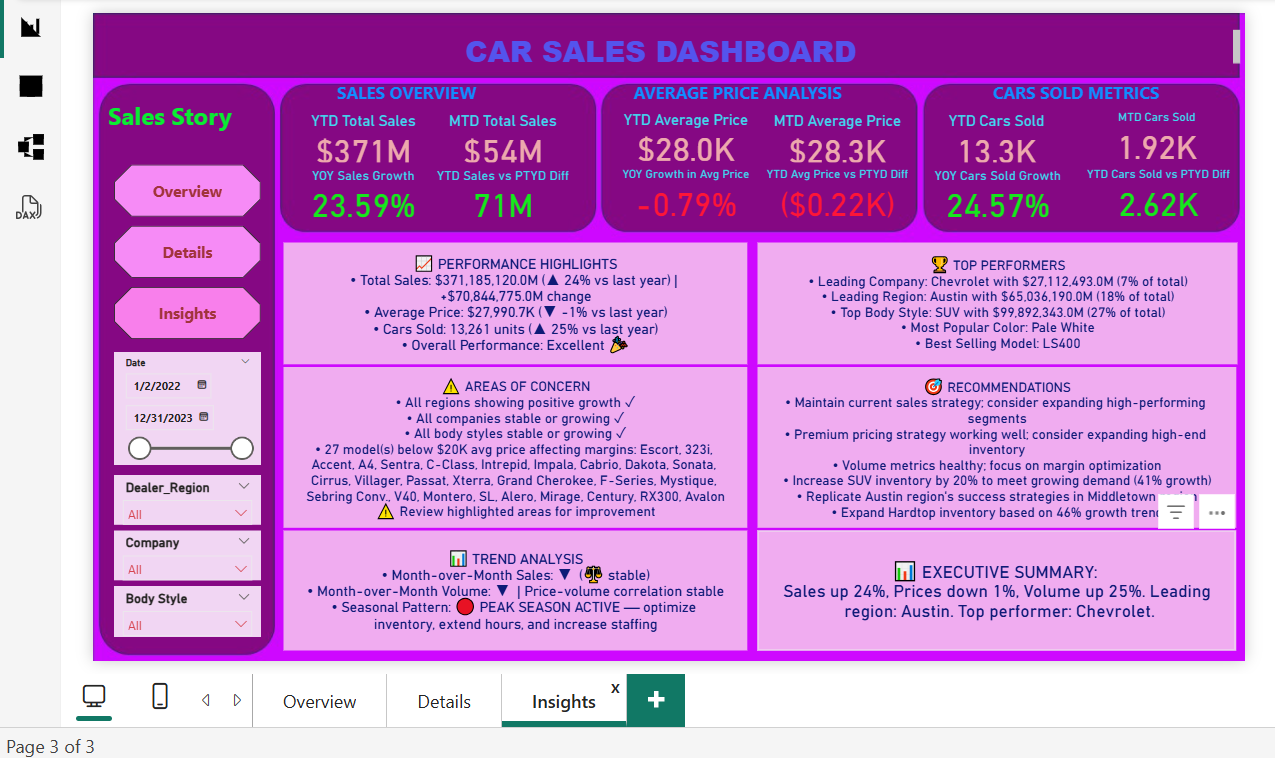

Layout of this report page (visuals, bound fields, positions):
{"tool":"powerbi","page":{"name":"Insights ","canvas":[1280,720],"ordinal":2},"visuals":[{"type":"textbox","box":[0,12.8,1279.7,51.1],"z":0},{"type":"textbox","box":[250.8,70.3,193.3,39.9],"z":1000},{"type":"card","title":"YTD Total Sales","fields":{"Values":["car_data.YTD Sales"]},"box":[210.9,110.2,177.3,60.7],"z":2000},{"type":"textbox","box":[968.2,70.3,247.6,39.9],"z":3000},{"type":"textbox","box":[570.4,70.3,292.4,39.9],"z":4000},{"type":"card","title":"YOY Sales Growth ","fields":{"Values":["car_data.YOY Sales Growth"]},"box":[210.9,171,177.3,60.7],"z":5000},{"type":"card","title":"YTD Sales vs PTYD Diff","fields":{"Values":["car_data.YTD Sales vs PTYD Difference"]},"box":[367.5,171,177.3,60.7],"z":6000},{"type":"card","title":"MTD Total Sales","fields":{"Values":["car_data.MTD Sales"]},"box":[367.5,110.2,177.3,60.7],"z":7000},{"type":"card","title":"YTD Average Price","fields":{"Values":["car_data.YTD Average Price"]},"box":[570.4,108.6,177.3,60.7],"z":8000},{"type":"card","title":"MTD Average Price","fields":{"Values":["car_data.MTD Average Price"]},"box":[738.1,110.2,177.3,60.7],"z":9000},{"type":"card","title":"YOY Growth in Avg Price","fields":{"Values":["car_data.YOY Average Price Growth"]},"box":[570.4,171,177.3,60.7],"z":10000},{"type":"card","title":"YTD Avg Price vs PTYD Diff","fields":{"Values":["car_data.YTD Avg Price vs PTYD Difference"]},"box":[738.1,171,177.3,60.7],"z":11000},{"type":"card","title":"YTD Cars Sold","fields":{"Values":["car_data.YTD Cars Sold"]},"box":[915.5,110.2,177.3,60.7],"z":12000},{"type":"card","title":"YOY Cars Sold Growth","fields":{"Values":["car_data.YOY Cars Sold Growth"]},"box":[917.1,171,177.3,60.7],"z":13000},{"type":"card","title":"MTD Cars Sold","fields":{"Values":["car_data.MTD Cars Sold"]},"box":[1092.8,108.6,177.3,60.7],"z":14000},{"type":"card","title":"YTD Cars Sold vs PTYD Diff","fields":{"Values":["car_data.YTD Cars Sold vs PTYD Difference"]},"box":[1094.4,171,177.3,60.7],"z":15000},{"type":"pageNavigator","box":[23.3,168.3,163.3,195],"z":16000},{"type":"textbox","box":[11.7,90,161.7,56.7],"z":17000},{"type":"slicer","fields":{"Values":["car_data.Date"]},"box":[23.3,376.7,163.3,125],"z":18000},{"type":"slicer","fields":{"Values":["car_data.Dealer_Region"]},"box":[23.3,513.3,163.3,55],"z":19000},{"type":"slicer","fields":{"Values":["car_data.Company"]},"box":[23.3,575,163.3,55],"z":20000},{"type":"slicer","fields":{"Values":["car_data.Body Style"]},"box":[23.3,636.7,163.3,56.7],"z":21000},{"type":"card","fields":{"Values":["car_data.Top Performers"]},"box":[738.3,255,533.3,135],"z":22000},{"type":"card","title":"P","fields":{"Values":["car_data.Performance Highlights"]},"box":[211.7,255,515,135],"z":23000},{"type":"card","fields":{"Values":["car_data.Areas of Concern"]},"box":[211.7,393.3,515,178.3],"z":24000},{"type":"card","fields":{"Values":["car_data.Recommendations"]},"box":[738.3,393.3,531.7,178.3],"z":25000},{"type":"card","fields":{"Values":["car_data.Trend Analysis"]},"box":[211.7,575,515,133.3],"z":26000},{"type":"card","fields":{"Values":["car_data.Executive Summary"]},"box":[738.3,575,531.7,133.3],"z":27000}]}

Visuals, with their boxes on the page's 1280x720 design canvas (x1, y1, x2, y2). These are canvas units, not pixel positions in the 1275x758 screenshot, which may show the page scaled, cropped or inside an application window:
textbox: bbox(0, 13, 1280, 64)
textbox: bbox(251, 70, 444, 110)
"YTD Total Sales" card: bbox(211, 110, 388, 171)
textbox: bbox(968, 70, 1216, 110)
textbox: bbox(570, 70, 863, 110)
"YOY Sales Growth " card: bbox(211, 171, 388, 232)
"YTD Sales vs PTYD Diff" card: bbox(368, 171, 545, 232)
"MTD Total Sales" card: bbox(368, 110, 545, 171)
"YTD Average Price" card: bbox(570, 109, 748, 169)
"MTD Average Price" card: bbox(738, 110, 915, 171)
"YOY Growth in Avg Price" card: bbox(570, 171, 748, 232)
"YTD Avg Price vs PTYD Diff" card: bbox(738, 171, 915, 232)
"YTD Cars Sold" card: bbox(916, 110, 1093, 171)
"YOY Cars Sold Growth" card: bbox(917, 171, 1094, 232)
"MTD Cars Sold" card: bbox(1093, 109, 1270, 169)
"YTD Cars Sold vs PTYD Diff" card: bbox(1094, 171, 1272, 232)
pageNavigator: bbox(23, 168, 187, 363)
textbox: bbox(12, 90, 173, 147)
slicer - car_data.Date: bbox(23, 377, 187, 502)
slicer - car_data.Dealer_Region: bbox(23, 513, 187, 568)
slicer - car_data.Company: bbox(23, 575, 187, 630)
slicer - car_data.Body Style: bbox(23, 637, 187, 693)
card - car_data.Top Performers: bbox(738, 255, 1272, 390)
"P" card: bbox(212, 255, 727, 390)
card - car_data.Areas of Concern: bbox(212, 393, 727, 572)
card - car_data.Recommendations: bbox(738, 393, 1270, 572)
card - car_data.Trend Analysis: bbox(212, 575, 727, 708)
card - car_data.Executive Summary: bbox(738, 575, 1270, 708)
